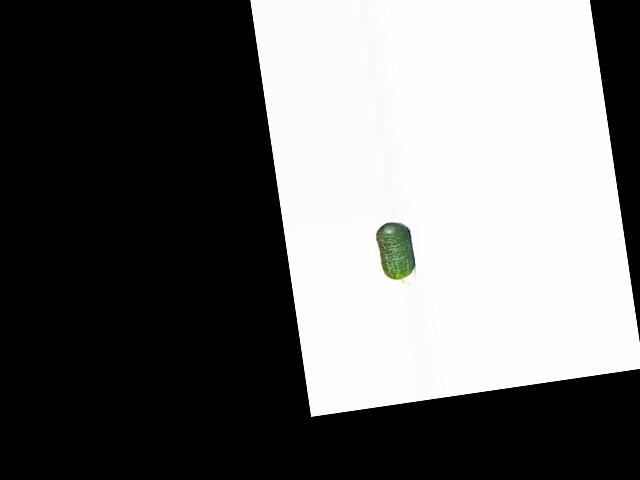cucumber: (373, 220, 418, 288)
